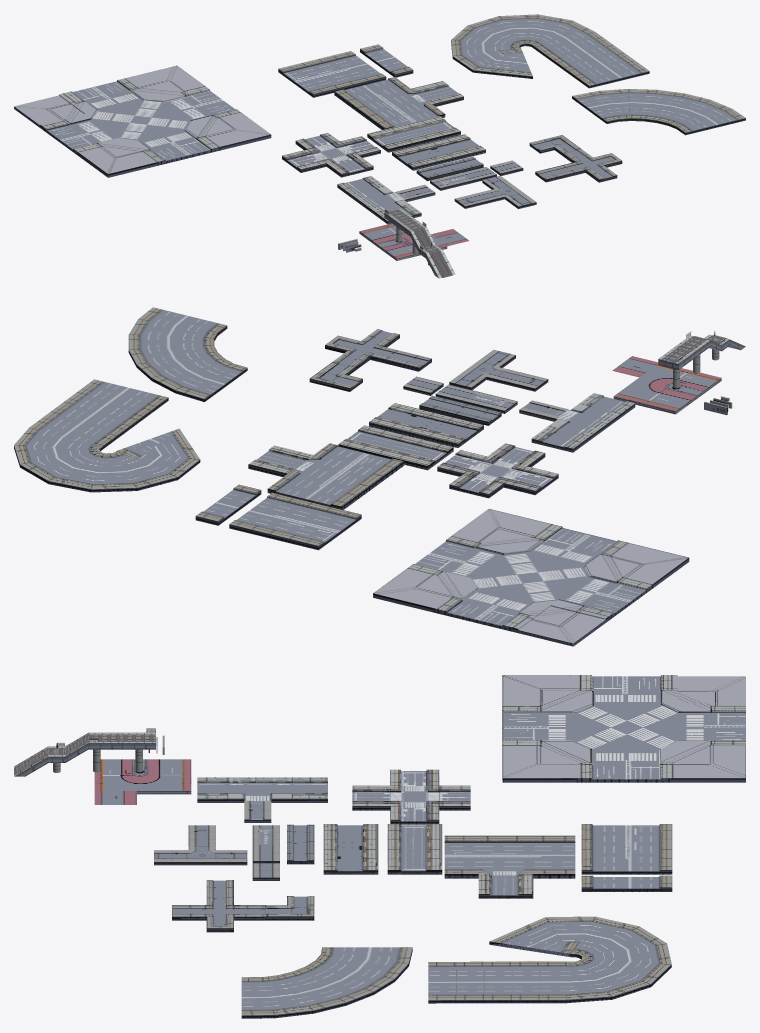
The model's file is ModuelRoad.fbx.
3 renders of one model, top to bottom at view 1: azimuth 30°, elevation 25°; view 2: azimuth 150°, elevation 25°; view 3: azimuth 270°, elevation 25°, orthographic. The views are drawn at different scales.
Parts seen in each view (by area): view 1: CrossRoad.001, Road_03.003, Road_03.002, Road_02.006, Road_03, CrossRoad, Road_02.007, Road_01, Road_02, Road_02.009, Road_02.008, Road_04 (+5 smaller); view 2: CrossRoad.001, Road_03.003, Road_03.002, Road_02.006, Road_03, CrossRoad, Road_02.007, Road_04, Road_02, Road_01, Road_02.008, Road_02.009 (+7 smaller); view 3: CrossRoad.001, Road_03.003, Road_03.002, Road_02.006, Road_03, CrossRoad, Road_02.007, Road_04, Road_01, Road_02, Road_02.008, Road_02.009 (+8 smaller).
Part boxes in pixels (<box>): CrossRoad.001: <box>14,65,271,177</box>; Road_03.003: <box>451,14,649,88</box>; Road_03.002: <box>572,89,745,135</box>; Road_02.006: <box>334,77,463,129</box>; Road_03: <box>278,51,386,97</box>; CrossRoad: <box>282,132,380,177</box>; Road_02.007: <box>337,176,435,224</box>; Road_01: <box>367,116,460,152</box>; Road_02: <box>392,134,485,170</box>; Road_02.009: <box>535,149,617,182</box>; Road_02.008: <box>454,175,536,208</box>; Road_04: <box>359,223,447,260</box>; CrossRoad.001: <box>373,509,689,646</box>; Road_03.003: <box>14,379,200,492</box>; Road_03.002: <box>128,307,247,401</box>; Road_02.006: <box>248,443,404,509</box>; Road_03: <box>229,492,361,550</box>; CrossRoad: <box>437,443,558,498</box>; Road_02.007: <box>519,393,635,452</box>; Road_04: <box>613,364,721,414</box>; Road_02: <box>369,403,483,447</box>; Road_01: <box>338,425,453,470</box>; Road_02.008: <box>449,349,548,391</box>; Road_02.009: <box>333,329,431,371</box>; CrossRoad.001: <box>502,675,745,782</box>; Road_03.003: <box>428,916,671,1003</box>; Road_03.002: <box>241,947,412,1018</box>; Road_02.006: <box>444,835,575,898</box>; Road_03: <box>581,824,672,874</box>; CrossRoad: <box>352,769,470,824</box>; Road_02.007: <box>197,777,327,822</box>; Road_04: <box>94,759,191,794</box>; Road_01: <box>387,824,442,874</box>; Road_02: <box>323,824,378,874</box>; Road_02.008: <box>154,825,247,865</box>; Road_02.009: <box>172,880,265,920</box>.
Size of the model in its own units: 14768 by 858 by 13474.
3 materials, 3 textured.
